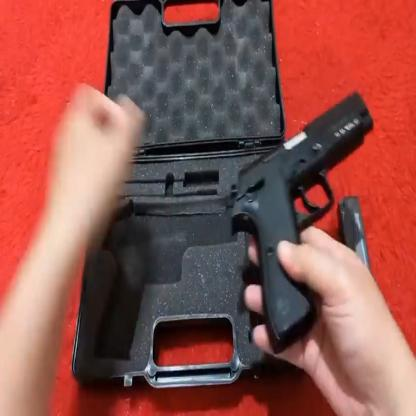handgun: (228, 86, 377, 360)
